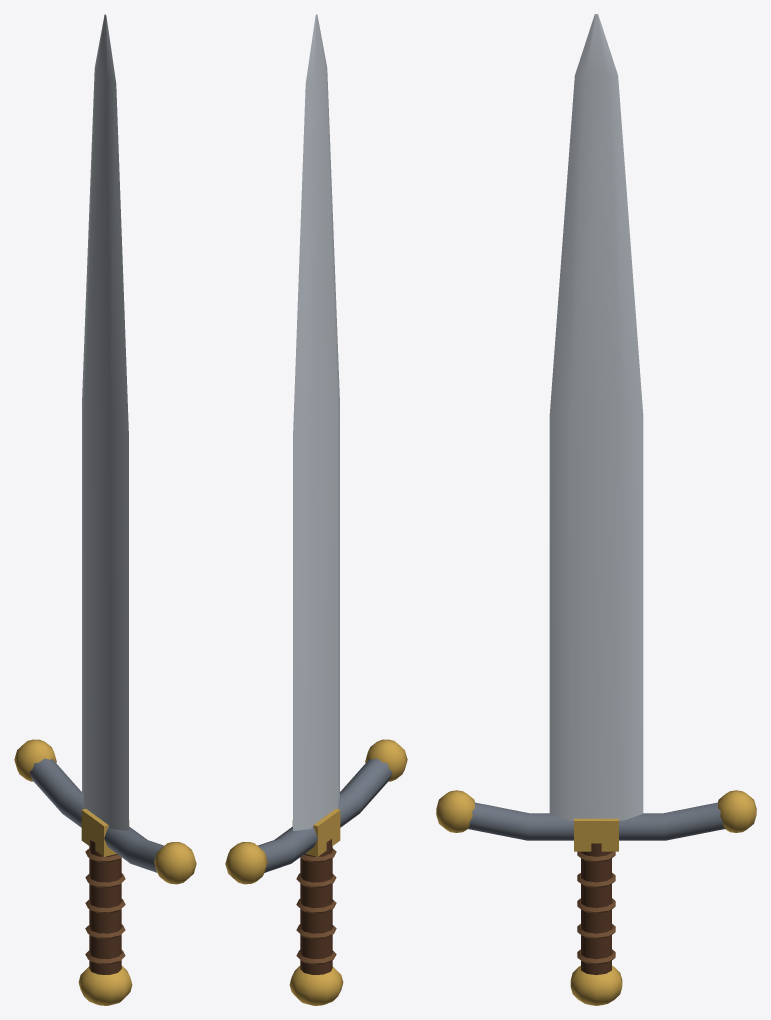
File: sword_iron.glb
3 views of the same model, side by side, from view 1: azimuth 30°, elevation 25°; view 2: azimuth 150°, elevation 25°; view 3: azimuth 270°, elevation 25° (orthographic).
Visible parts, largest first — view 1: Sword_Iron; view 2: Sword_Iron; view 3: Sword_Iron.
Boxes of the visible parts, <box> form: Sword_Iron: <box>14,14,196,1005</box>; Sword_Iron: <box>225,14,407,1005</box>; Sword_Iron: <box>436,14,756,1005</box>.
Bounding box in the file's own units: 0.0481 × 0.9672 × 0.2841.
